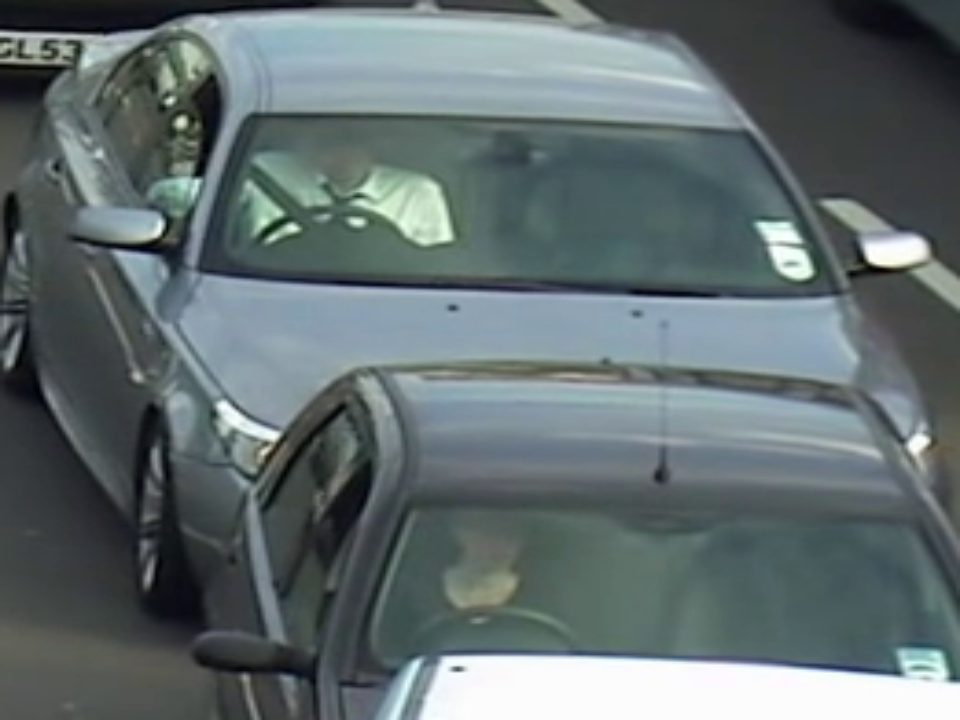ONE: (230, 111, 813, 287)
